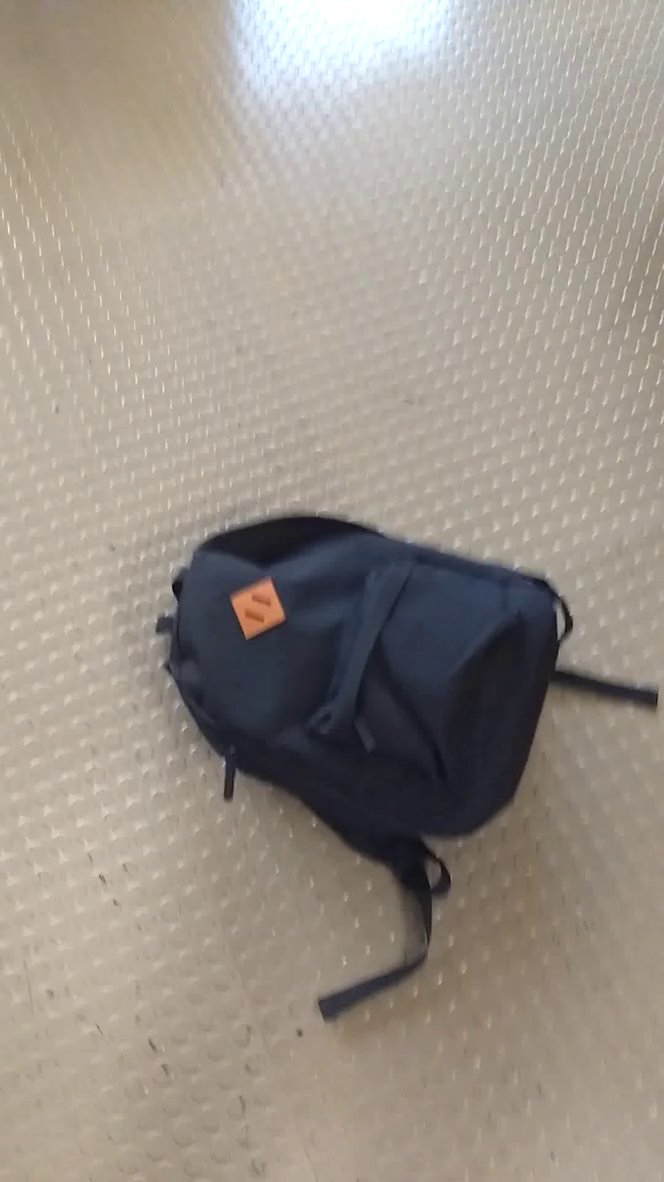bag: (146, 502, 663, 1026)
